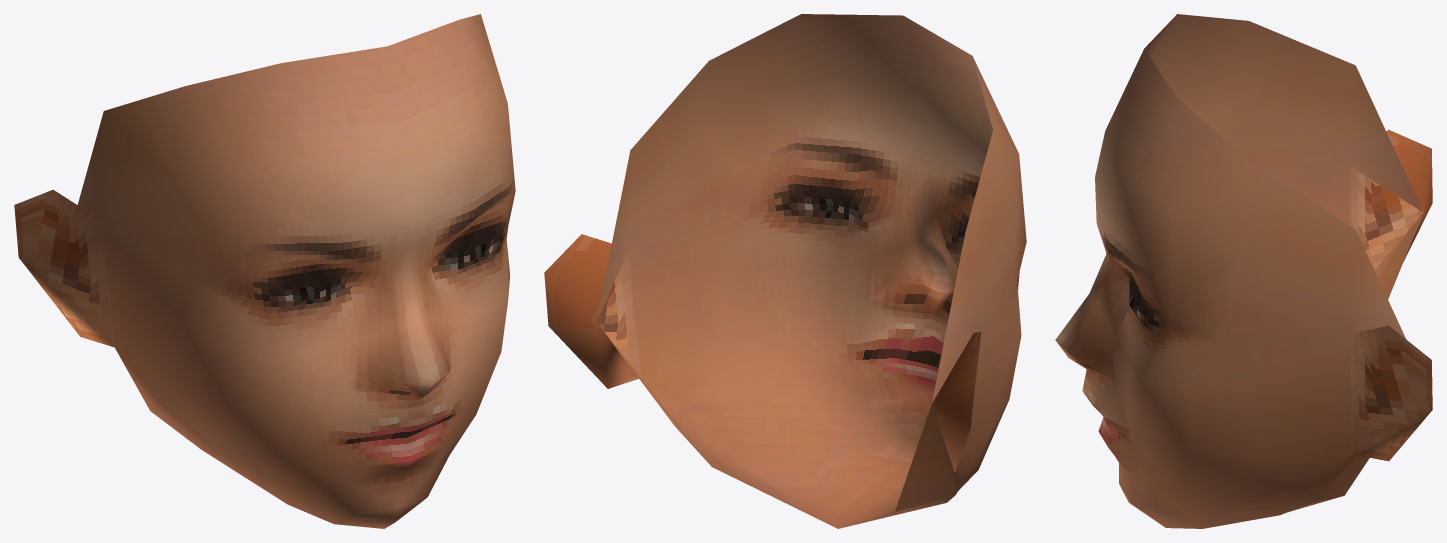
3 renders of one model, left to right at view 1: azimuth 30°, elevation 25°; view 2: azimuth 150°, elevation 25°; view 3: azimuth 270°, elevation 25°, orthographic. The views are drawn at different scales.
Visible parts, largest first — view 1: editpl_f-0000-1820, editpl_f-0000-1819; view 2: editpl_f-0000-1820, editpl_f-0000-1819; view 3: editpl_f-0000-1820, editpl_f-0000-1819.
Part boxes in pixels (bbox=[...]): editpl_f-0000-1820: bbox=[14, 14, 515, 388]; editpl_f-0000-1819: bbox=[102, 221, 507, 528]; editpl_f-0000-1820: bbox=[544, 14, 1026, 473]; editpl_f-0000-1819: bbox=[596, 249, 1021, 528]; editpl_f-0000-1820: bbox=[1055, 14, 1432, 461]; editpl_f-0000-1819: bbox=[1056, 166, 1423, 528].
Bounding box in the file's own units: 19.4 × 20.05 × 14.64.
